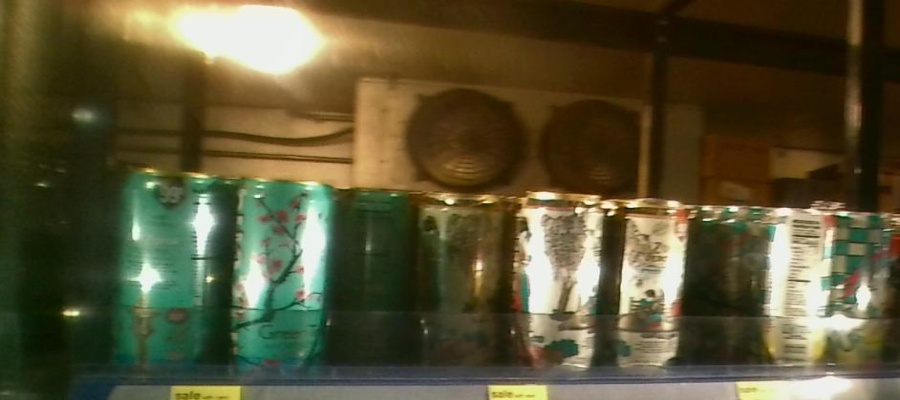bottle: (101, 165, 227, 373), (232, 168, 342, 374), (511, 194, 604, 313), (612, 197, 696, 318), (423, 192, 504, 310), (348, 185, 413, 310), (761, 211, 836, 318), (839, 206, 895, 320)
